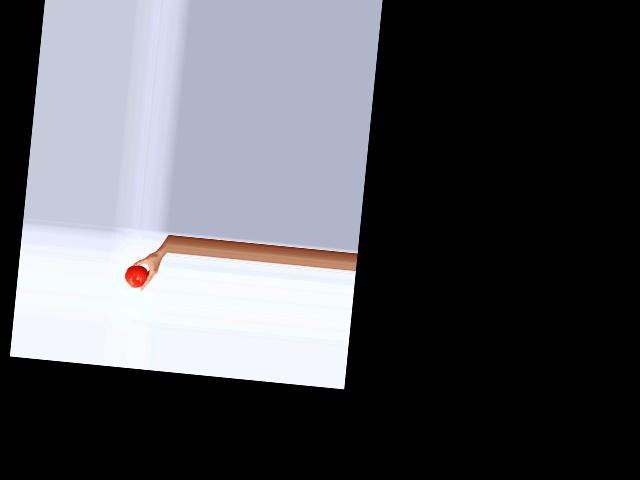tomato: (124, 264, 148, 289)
